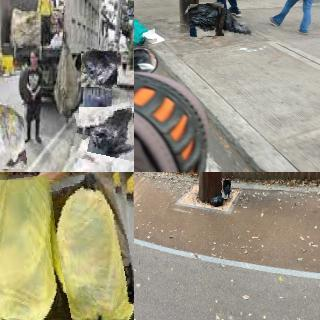Garbage: (37, 172, 134, 320), (0, 177, 63, 320), (76, 104, 134, 159), (59, 137, 134, 172), (0, 104, 25, 169), (79, 49, 119, 89), (189, 3, 225, 37), (216, 9, 258, 38), (134, 15, 156, 49), (209, 190, 224, 207), (222, 180, 232, 199)
